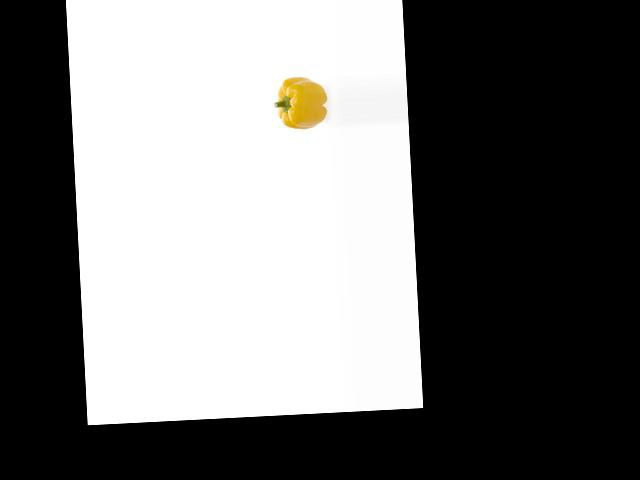bell_pepper: (270, 71, 329, 130)
